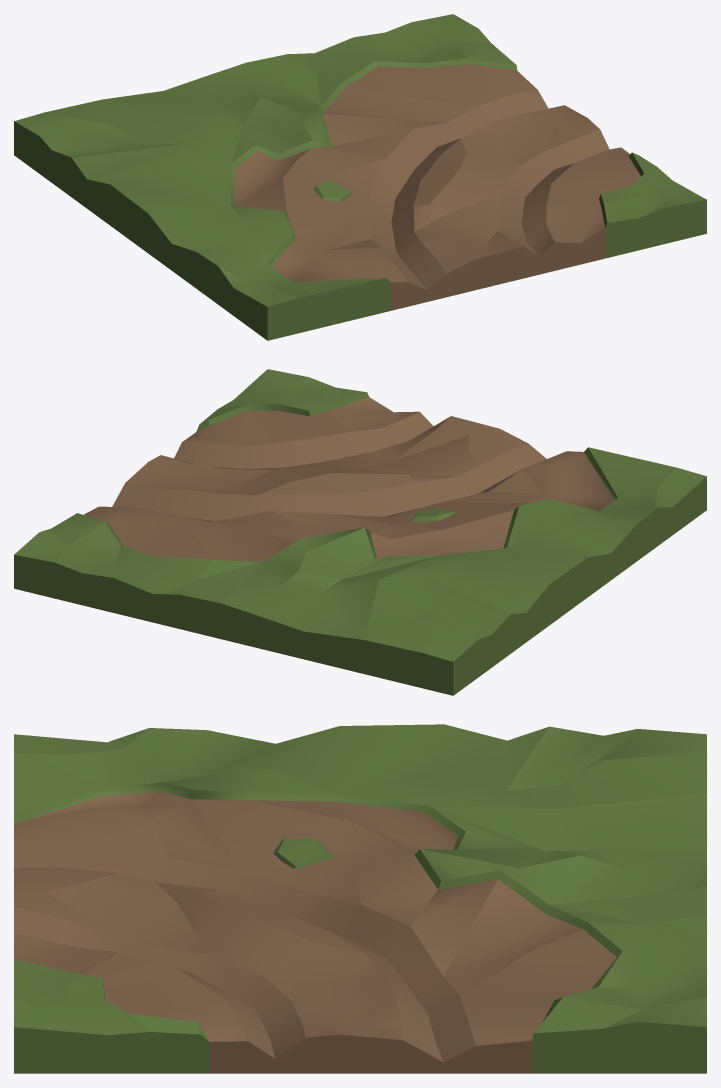
Rendered from Ground_Road_Turn_LU.glb.
The picture shows the model from 3 angles, top to bottom: view 1: azimuth 30°, elevation 25°; view 2: azimuth 150°, elevation 25°; view 3: azimuth 270°, elevation 25°; orthographic projection. The views are drawn at different scales.
Visible parts, largest first — view 1: Ground_Road_Turn_LU; view 2: Ground_Road_Turn_LU; view 3: Ground_Road_Turn_LU.
Part boxes in pixels (left/top/right/bottom): Ground_Road_Turn_LU: left=14, top=14, right=706, bottom=340; Ground_Road_Turn_LU: left=14, top=369, right=706, bottom=695; Ground_Road_Turn_LU: left=14, top=724, right=706, bottom=1073.
Bounding box in the file's own units: 1.47 × 0.1465 × 1.47.
